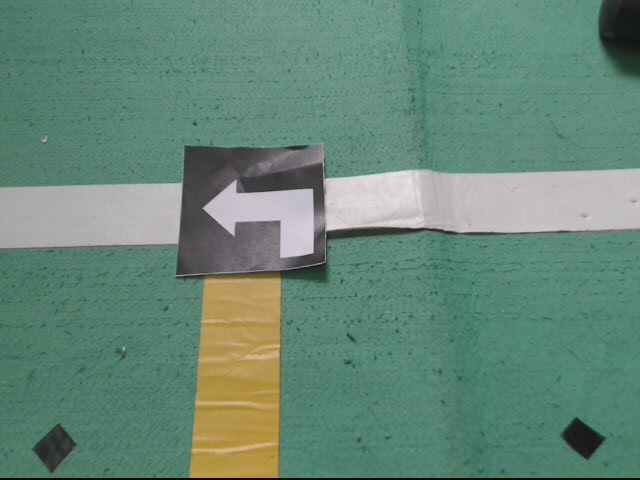left: (172, 141, 336, 276)
